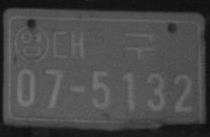-: (67, 83, 87, 93)
0: (15, 66, 37, 107)
1: (119, 70, 141, 112)
2: (173, 71, 194, 113)
3: (145, 71, 167, 112)
5: (91, 69, 111, 109)
7: (43, 66, 64, 110)
대구_D: (51, 28, 154, 63)
영: (14, 23, 50, 62)
